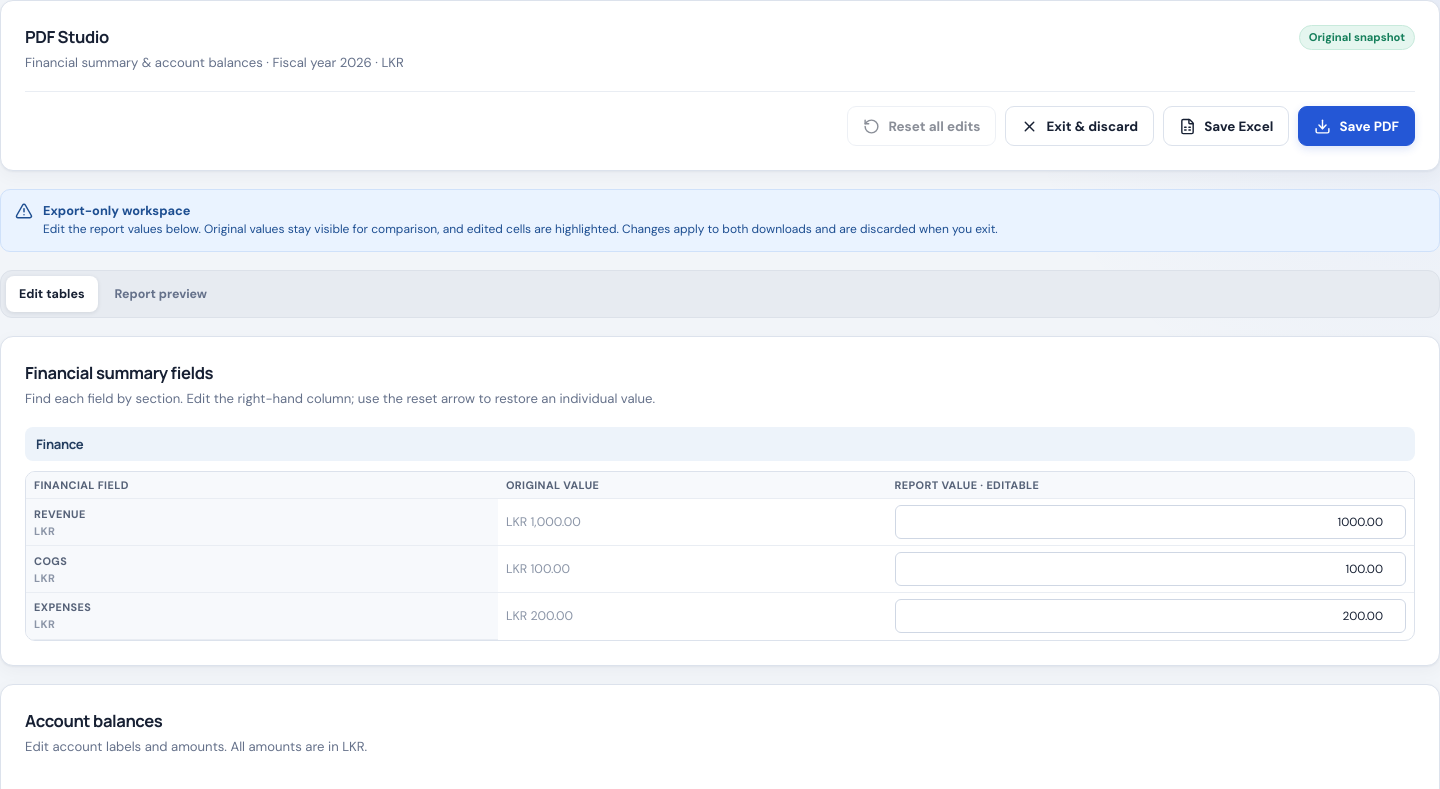
Test: PDF Studio › exports the same edited values to both formats, preserves source values, and resets
The image size is (1440, 789).
Clear the number field named "Finance: Revenue": (1150, 522) [894, 505, 1406, 539]
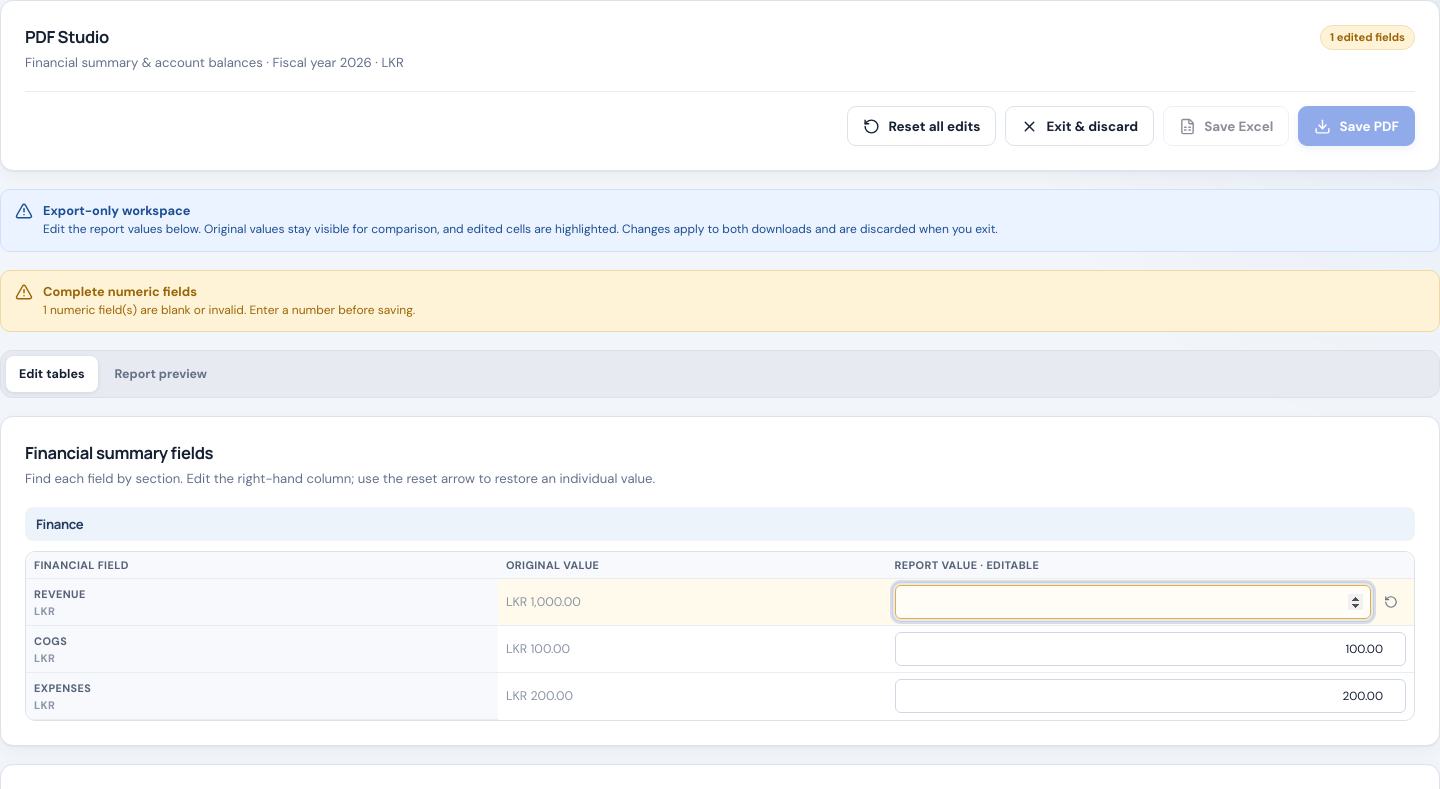
Now the button "Save PDF" is disabled, box [1298, 106, 1415, 146]
In the number field named "Finance: Revenue": (1133, 602) [894, 586, 1371, 620], type "1500"
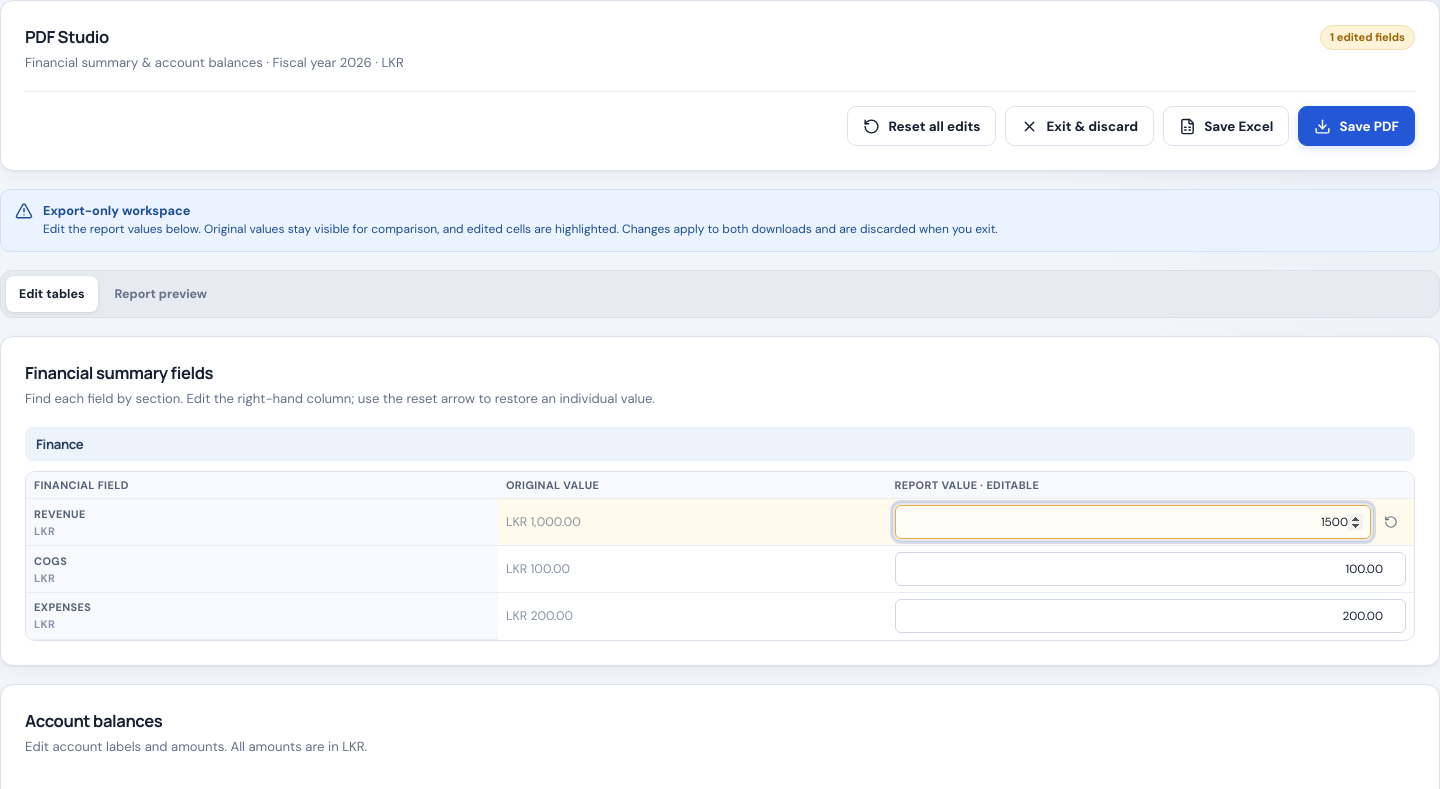
Click the button "Save PDF": (1357, 126) [1298, 106, 1415, 146]
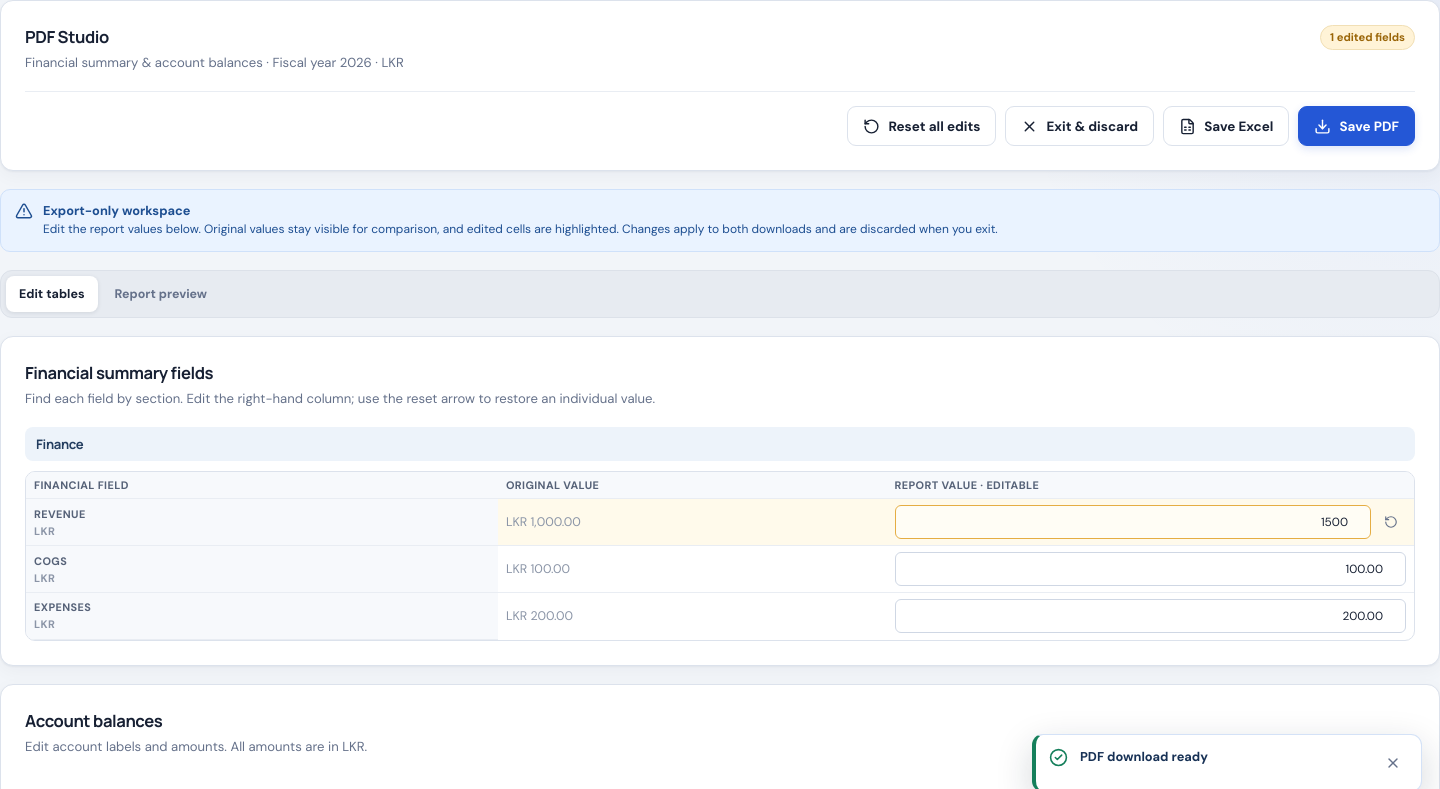
Click the button "Save Excel": (1226, 126) [1163, 106, 1289, 146]
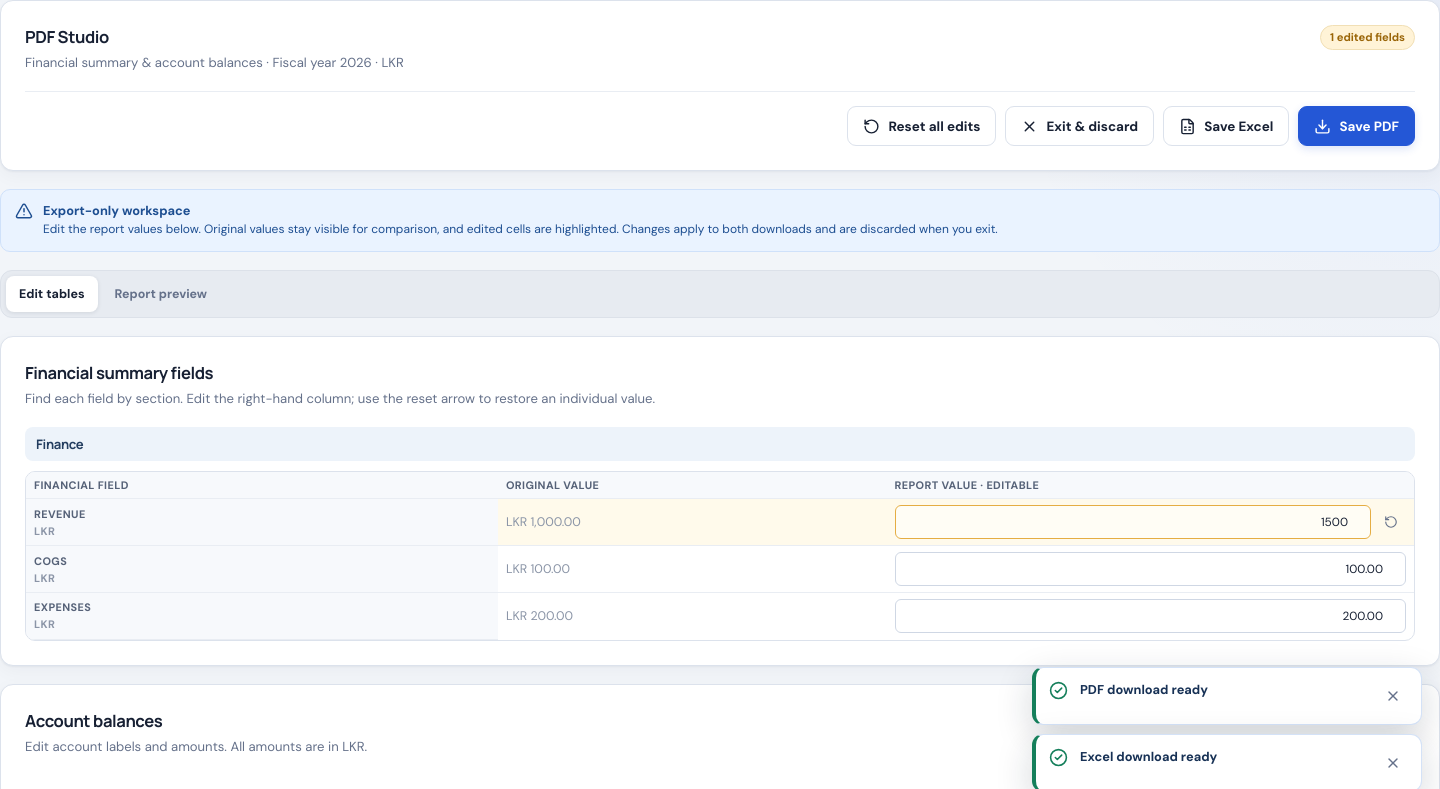
Click the button named "Reset Finance: Revenue": (1391, 522) [1376, 507, 1406, 537]
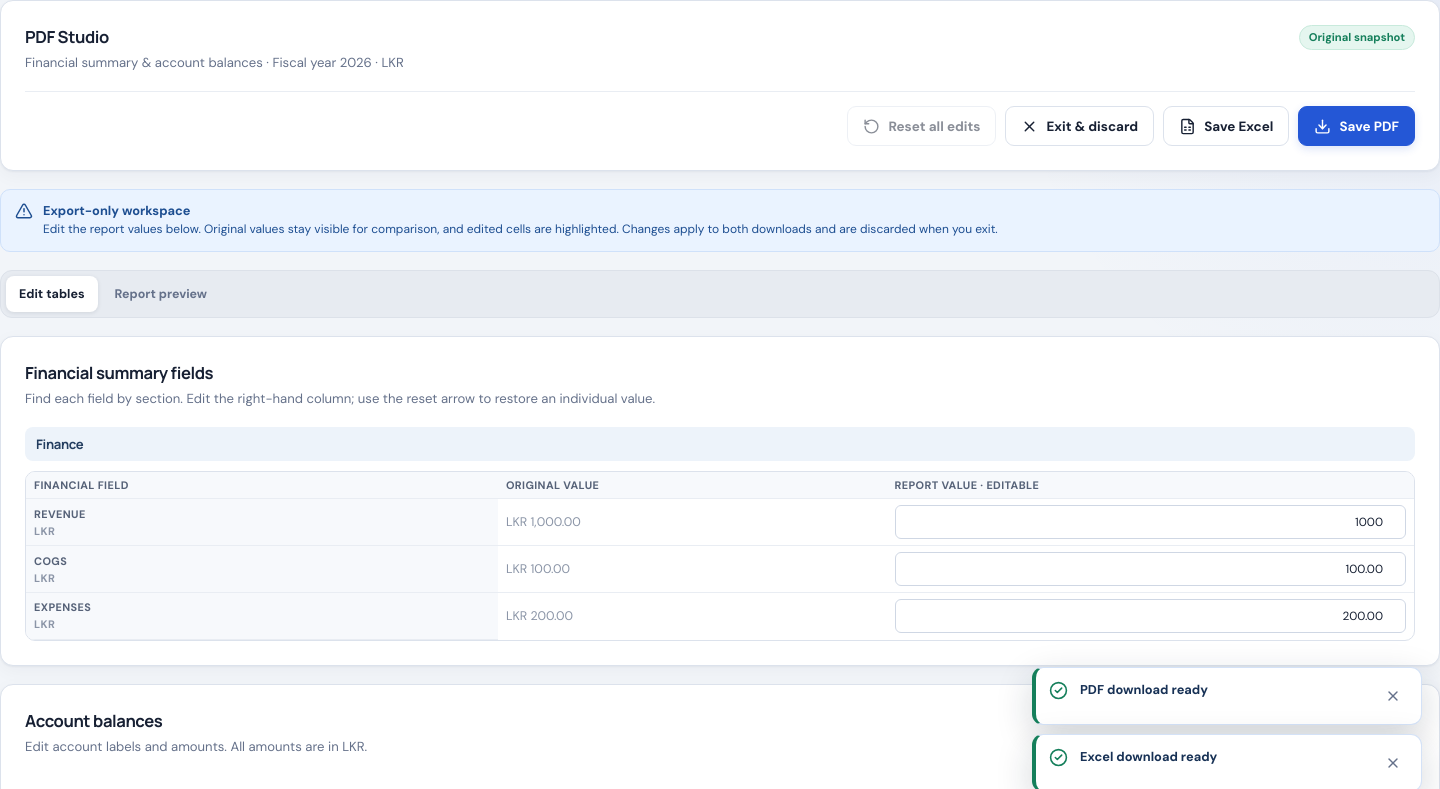
Now the number field named "Finance: Revenue" holds "1000", box [894, 505, 1406, 539]
Now the text "Original snapshot" is shown, box [1299, 25, 1415, 50]
